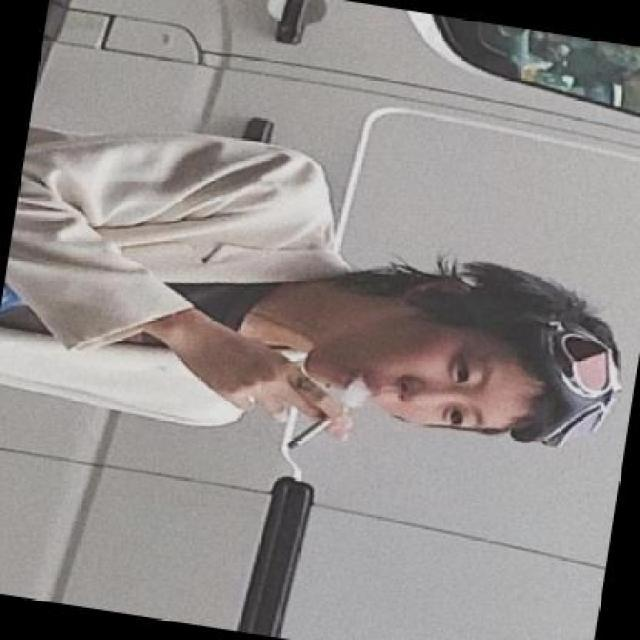cigarette: (284, 406, 334, 456)
